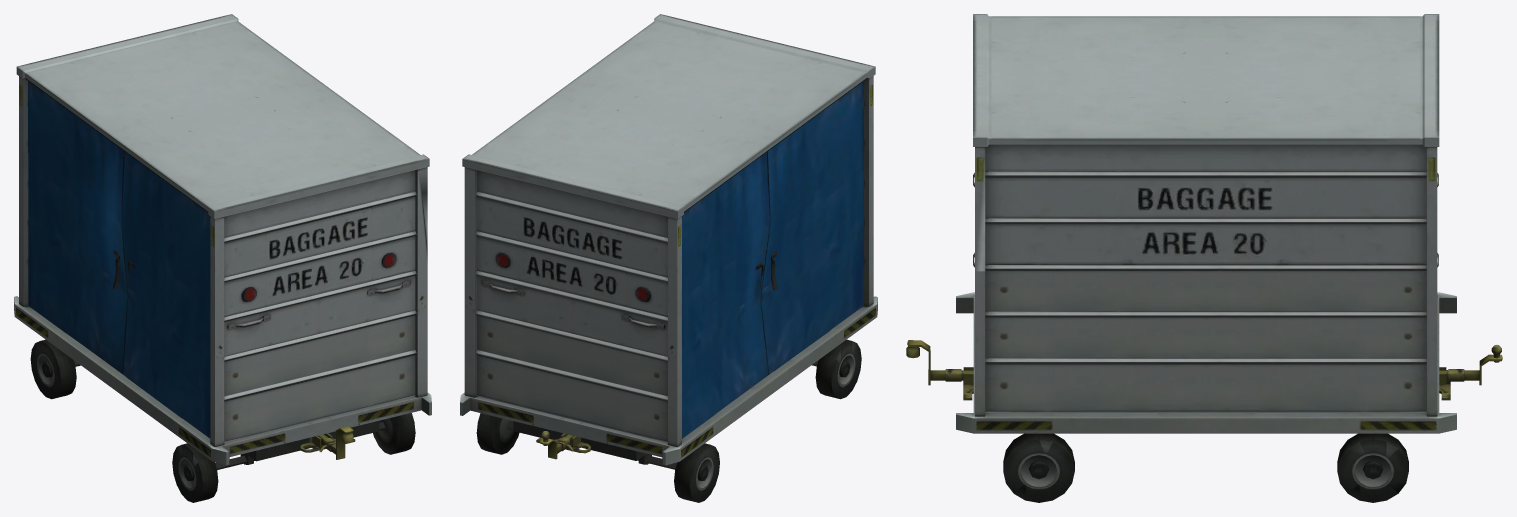
Rendered from baggage_cart.glb.
3 views of the same model, side by side, from view 1: azimuth 30°, elevation 25°; view 2: azimuth 150°, elevation 25°; view 3: azimuth 270°, elevation 25° (orthographic). The views are drawn at different scales.
Visible parts, largest first — view 1: baggage_cart; view 2: baggage_cart; view 3: baggage_cart.
Part boxes in pixels (left/top/right/bottom): baggage_cart: left=14, top=14, right=431, bottom=502; baggage_cart: left=460, top=14, right=877, bottom=502; baggage_cart: left=906, top=14, right=1502, bottom=502.
Bounding box in the file's own units: 2.06 × 2.79 × 4.12.
1 material, 1 textured.
